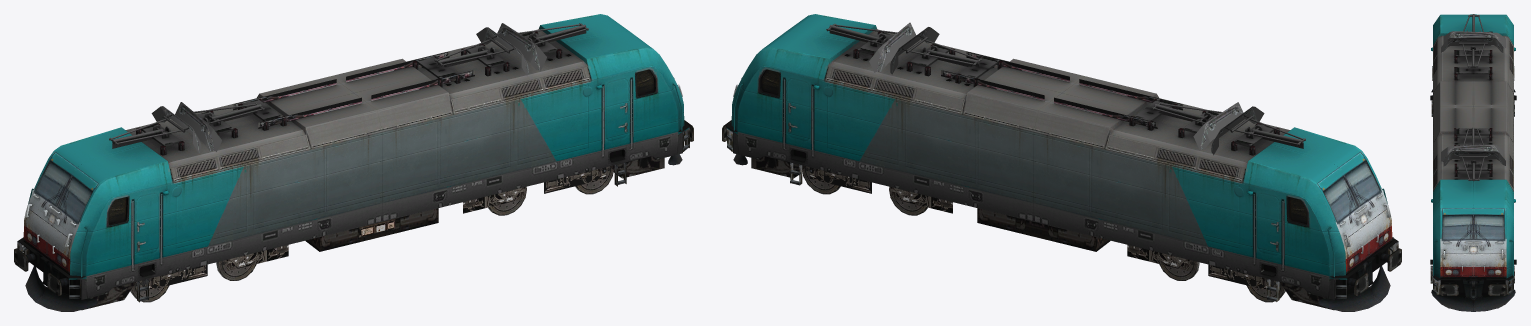
3 views of the same model, side by side, from view 1: azimuth 30°, elevation 25°; view 2: azimuth 150°, elevation 25°; view 3: azimuth 270°, elevation 25° (orthographic). The views are drawn at different scales.
Visible parts, largest first — view 1: Object_3, Object_2; view 2: Object_3, Object_2; view 3: Object_3, Object_2.
Part boxes in pixels (left/top/right/bottom): Object_3: left=14, top=14, right=693, bottom=311; Object_2: left=17, top=23, right=689, bottom=302; Object_3: left=722, top=14, right=1401, bottom=311; Object_2: left=727, top=22, right=1398, bottom=301; Object_3: left=1430, top=14, right=1516, bottom=311; Object_2: left=1430, top=31, right=1514, bottom=294.
Size of the model in its own units: 19.26 by 4.63 by 3.15.
2 materials, 2 textured.
